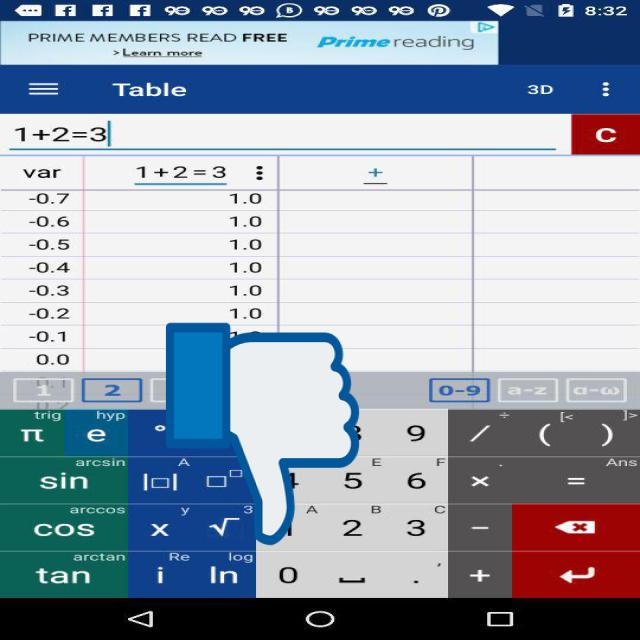obstruction: (166, 318, 359, 550)
